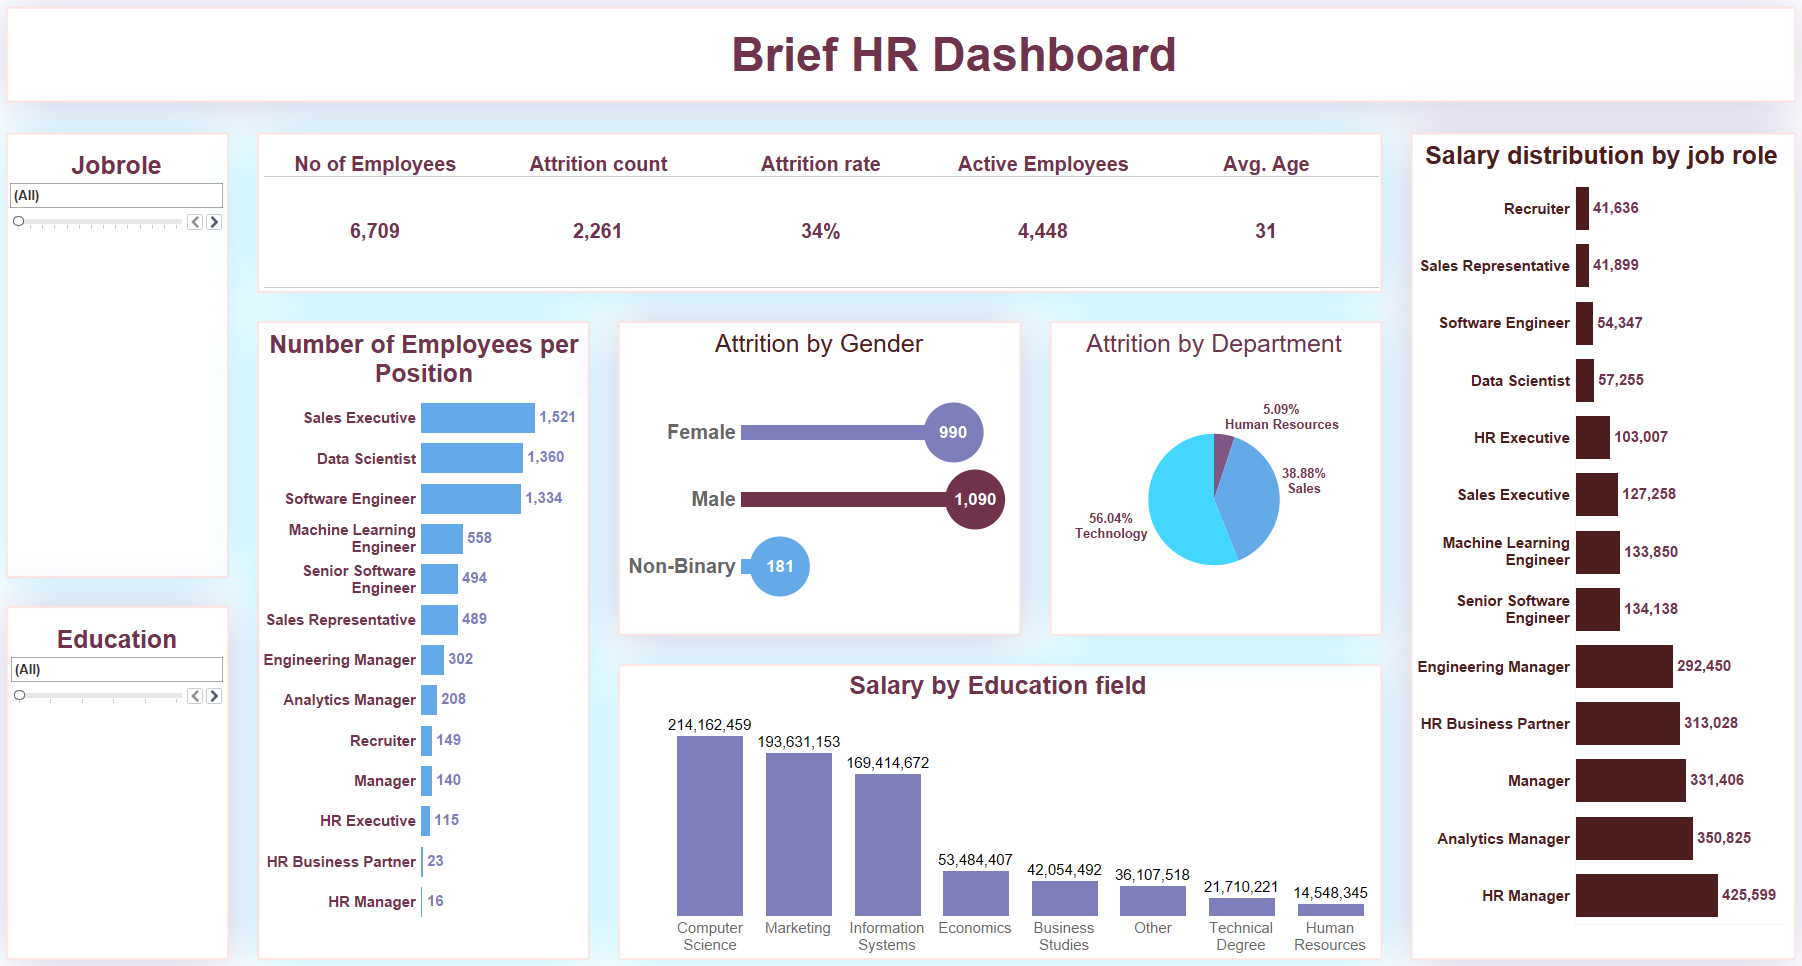

What the dashboard file says about the page in this screenshot:
{"tool":"tableau","page":{"name":"Dashboard 1","canvas":[1920,1080],"ordinal":0},"visuals":[{"type":"text","box":[692,88,666,57]},{"type":"worksheet","title":"KPI","mark":"Automatic","box":[335,198,1115,152]},{"type":"worksheet","title":"Salary distribution by job role","mark":"Automatic","rows":["jobrole"],"cols":["salary"],"box":[1486,199,373,817]},{"type":"filter","title":"KPI","param":"[federated.1iyylef19io1s218z0abj1mur22b].[none:jobrole:nk]","box":[78,213,219,424]},{"type":"worksheet","title":"Attrition by Gender","mark":"Automatic","rows":["gender"],"cols":["Calculation_579275567574052864","Calculation_579275567574052864"],"box":[692,387,396,306]},{"type":"worksheet","title":"Attrition by Department","mark":"Pie","box":[1123,387,324,306]},{"type":"worksheet","title":"Number of Employees per Position","mark":"Automatic","rows":["jobrole"],"cols":["gender"],"box":[332,388,326,626]},{"type":"filter","title":"KPI","param":"[federated.1iyylef19io1s218z0abj1mur22b].[none:education:nk]","box":[79,687,218,328]},{"type":"worksheet","title":"Correlation with education/Salary","mark":"Automatic","rows":["salary"],"cols":["educationfield"],"box":[692,729,754,289]}]}

Visuals, with their boxes on the page's 1920x1080 design canvas (x1, y1, x2, y2). These are canvas units, not pixel positions in the 1802x966 screenshot, which may show the page scaled, cropped or inside an application window:
text: left=692, top=88, right=1358, bottom=145
"KPI" worksheet: left=335, top=198, right=1450, bottom=350
"Salary distribution by job role" worksheet: left=1486, top=199, right=1859, bottom=1016
"KPI" filter: left=78, top=213, right=297, bottom=637
"Attrition by Gender" worksheet: left=692, top=387, right=1088, bottom=693
"Attrition by Department" worksheet (Pie marks): left=1123, top=387, right=1447, bottom=693
"Number of Employees per Position" worksheet: left=332, top=388, right=658, bottom=1014
"KPI" filter: left=79, top=687, right=297, bottom=1015
"Correlation with education/Salary" worksheet: left=692, top=729, right=1446, bottom=1018
